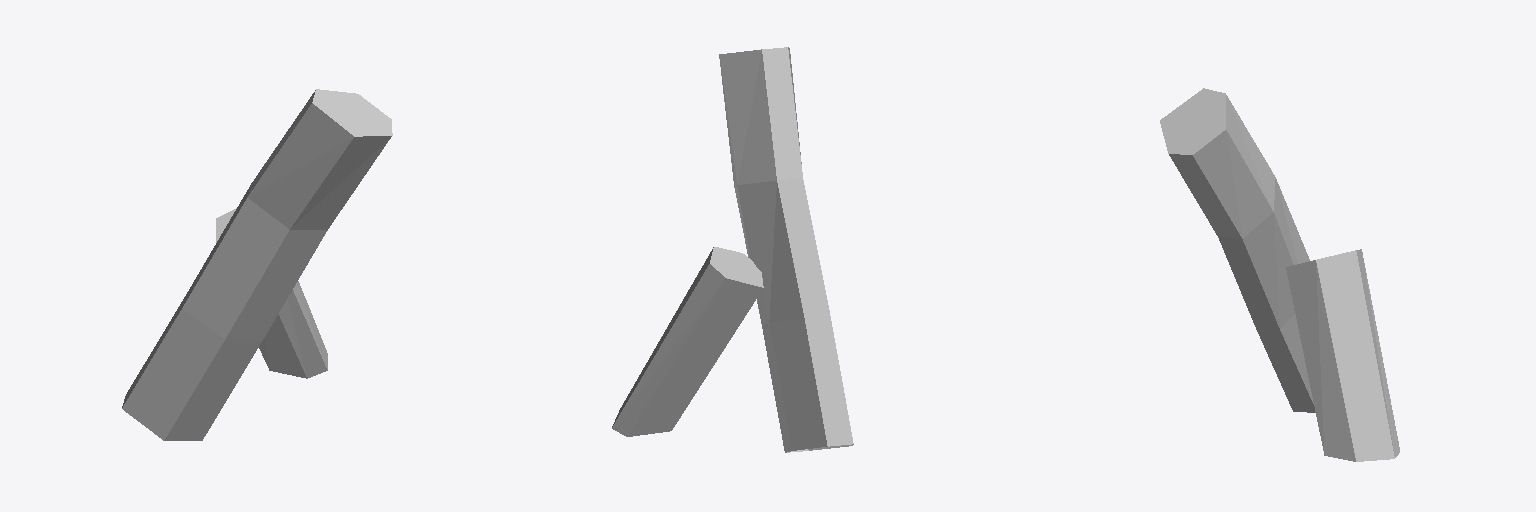
Rendered from overgrowthTemple_prefab.obj.
3 views of the same model, side by side, from view 1: azimuth 30°, elevation 25°; view 2: azimuth 150°, elevation 25°; view 3: azimuth 270°, elevation 25° (orthographic).
Parts seen in each view (by area): view 1: Object95-Pivot; view 2: Object95-Pivot; view 3: Object95-Pivot.
Part boxes in pixels (x1,y1,x2,y2): Object95-Pivot: (122, 89, 392, 440); Object95-Pivot: (612, 47, 853, 452); Object95-Pivot: (1160, 88, 1399, 461).
Size of the model in its own units: 48.88 by 75.84 by 46.36.